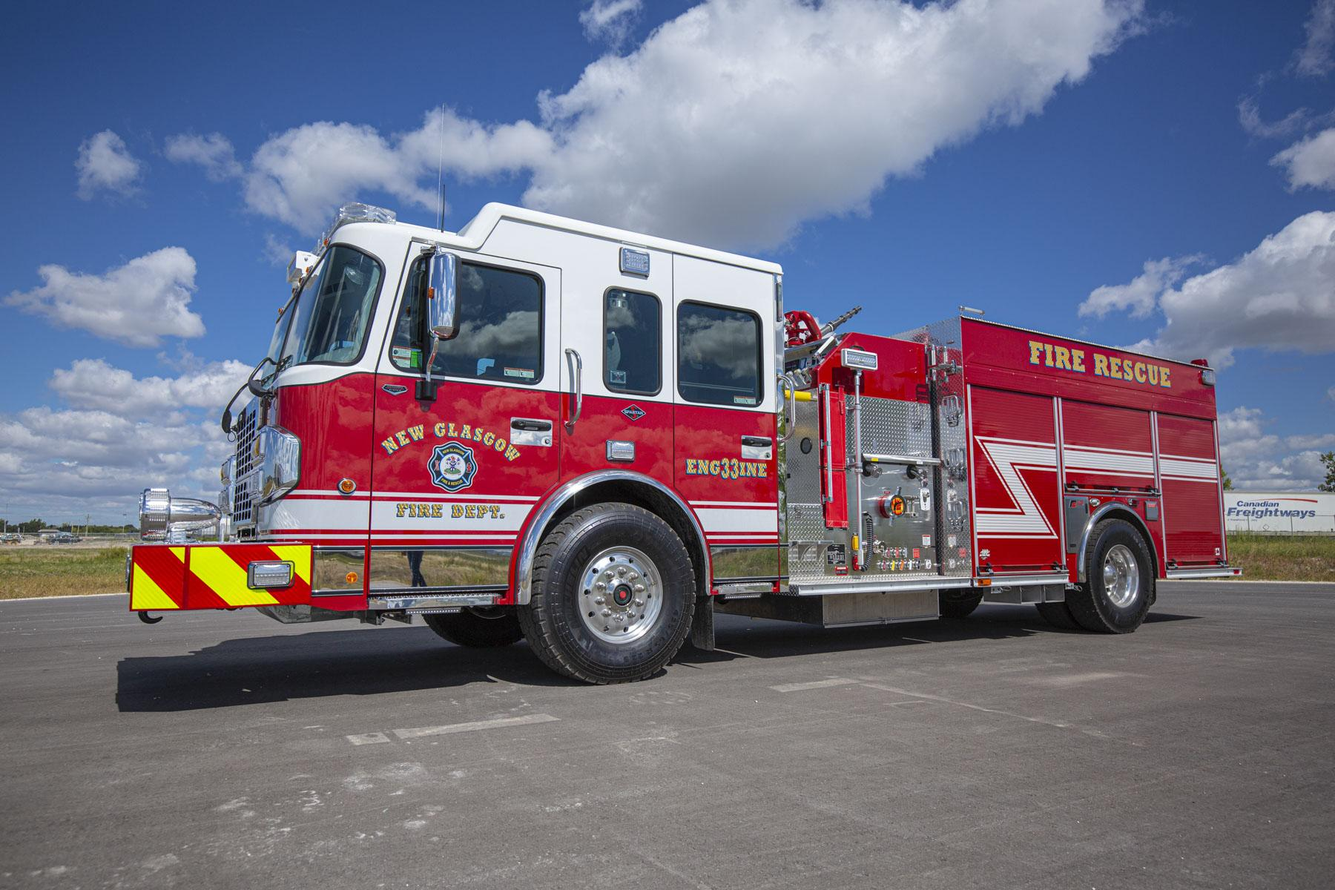Fire-engine: (125, 174, 1243, 686)
